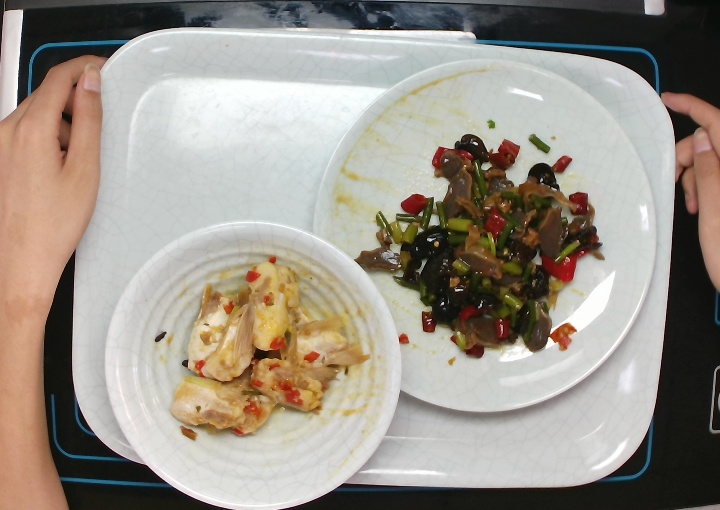JYsf-Da_Yuan_Pan: (305, 54, 657, 416)
JYsf-Xiao_Tang_Wan: (105, 220, 404, 510)
